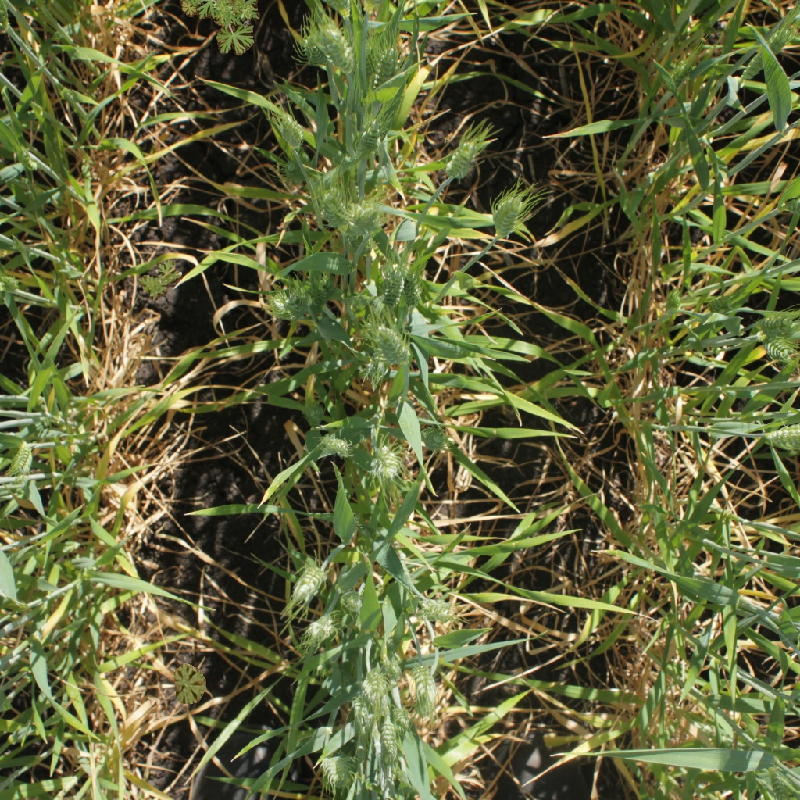spikelet: (320, 24, 356, 75), (372, 323, 413, 365), (290, 559, 328, 602), (366, 43, 401, 89), (491, 192, 525, 238), (344, 198, 384, 237), (407, 662, 439, 709), (317, 186, 351, 230), (444, 138, 480, 179), (267, 286, 311, 319), (760, 764, 800, 799), (751, 313, 799, 342), (320, 753, 358, 789), (367, 443, 403, 480), (78, 737, 114, 774), (378, 261, 406, 306), (417, 595, 457, 624), (304, 612, 339, 644), (361, 666, 393, 701), (763, 420, 799, 450), (275, 112, 305, 147), (300, 34, 329, 68), (318, 432, 354, 458), (766, 23, 799, 50), (379, 716, 400, 757), (764, 336, 797, 360)
weed: (175, 1, 273, 55), (139, 259, 182, 301), (174, 663, 206, 704)
